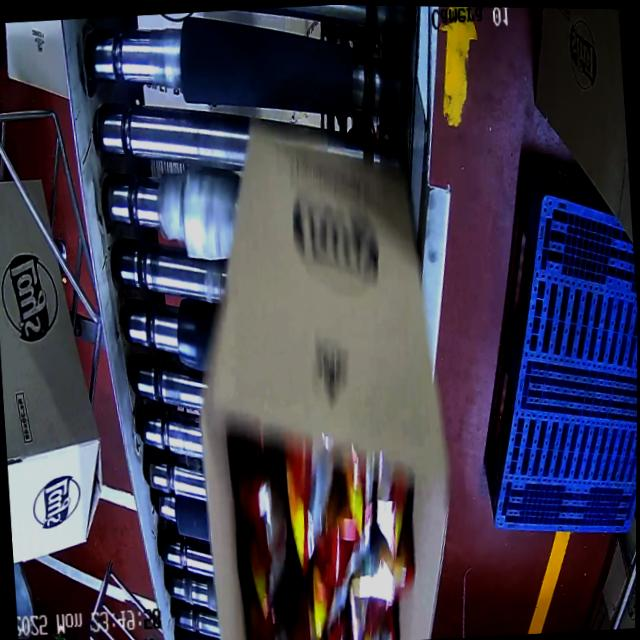MASALA: (229, 433, 412, 640)
